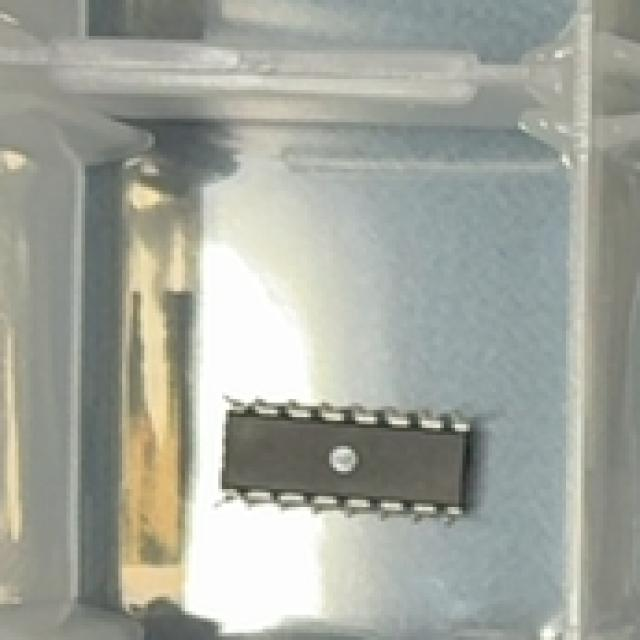IC: (218, 397, 478, 520)
